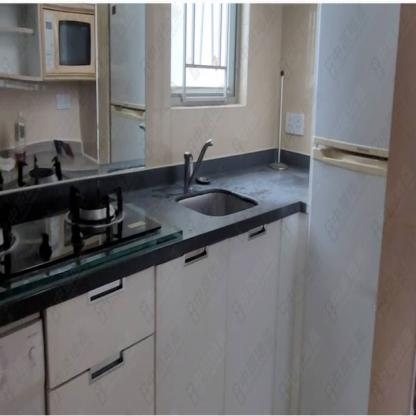Cupboard: (1, 216, 304, 415)
Faucet: (183, 139, 215, 192)
Fridge: (296, 3, 401, 415)
Microwave: (42, 7, 95, 77)
Sink: (177, 188, 260, 217)
Stove: (1, 180, 163, 285)
